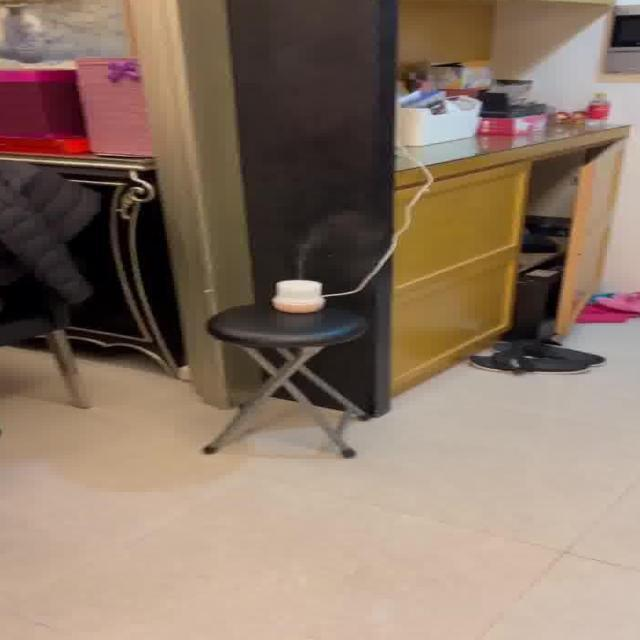fire: (288, 218, 374, 273)
